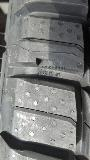temoin:100: (35, 57, 68, 73)
